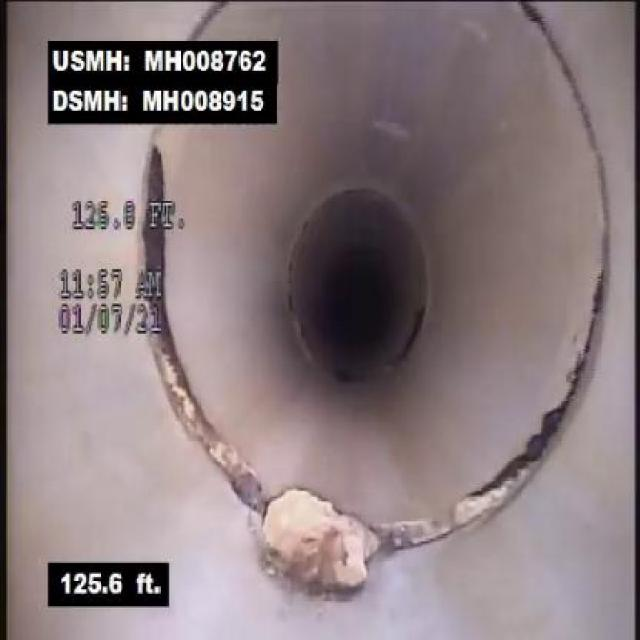Debris: (237, 451, 411, 609)
